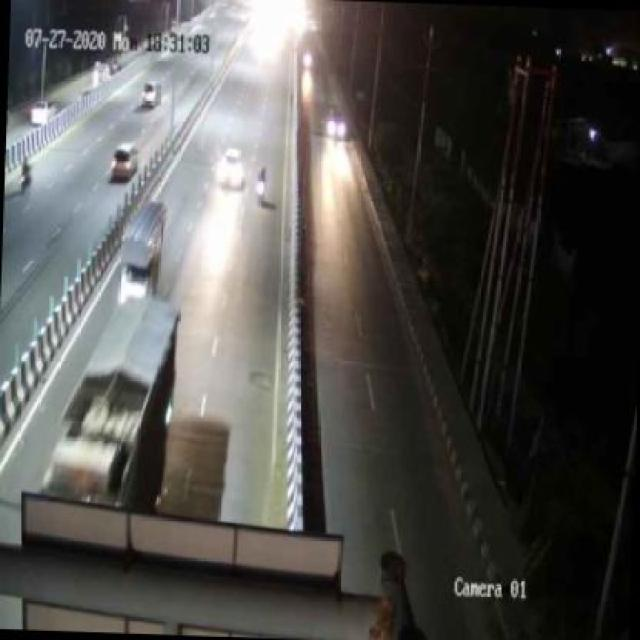car: (214, 146, 251, 194), (320, 111, 357, 143)
